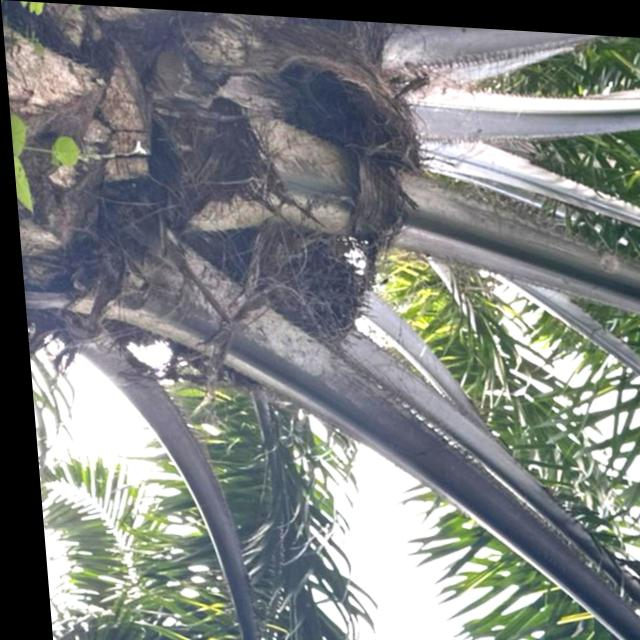almost: (139, 222, 393, 408)
